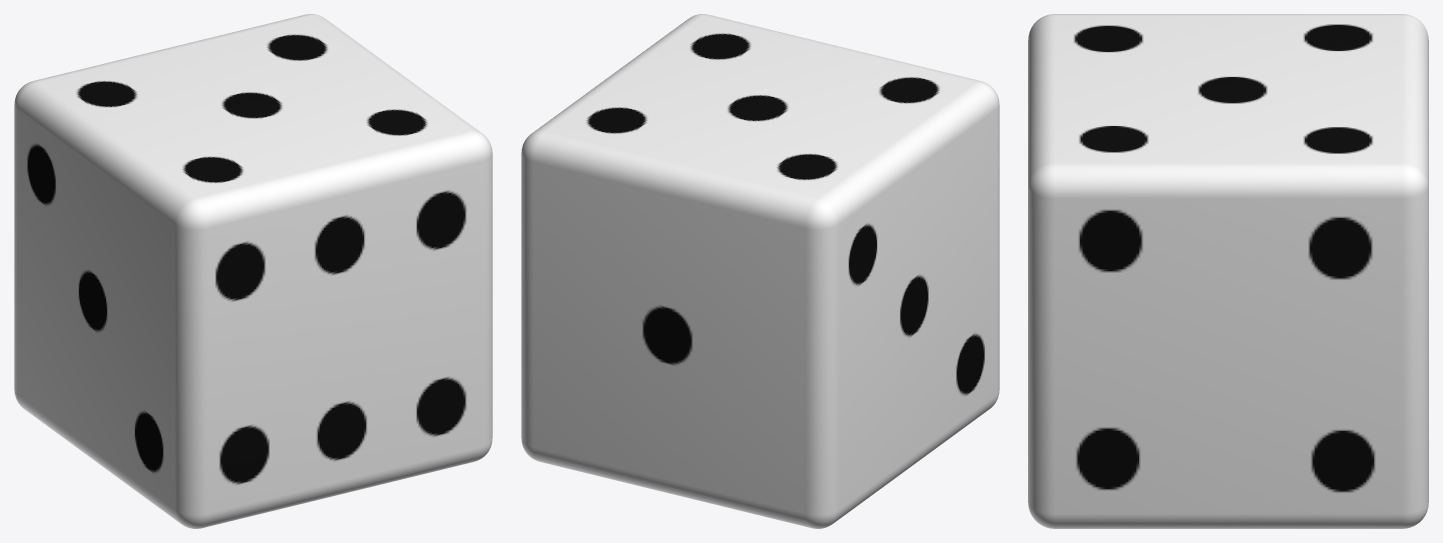
Rendered from Dice.fbx.
3 views of the same model, side by side, from view 1: azimuth 30°, elevation 25°; view 2: azimuth 150°, elevation 25°; view 3: azimuth 270°, elevation 25° (orthographic). The views are drawn at different scales.
Visible parts, largest first — view 1: Dice; view 2: Dice; view 3: Dice.
Boxes of the visible parts, x1,y1,x2,y2 form: Dice: [14, 14, 492, 528]; Dice: [521, 14, 999, 528]; Dice: [1028, 14, 1428, 528].
Bounding box in the file's own units: 30 × 30 × 30.
